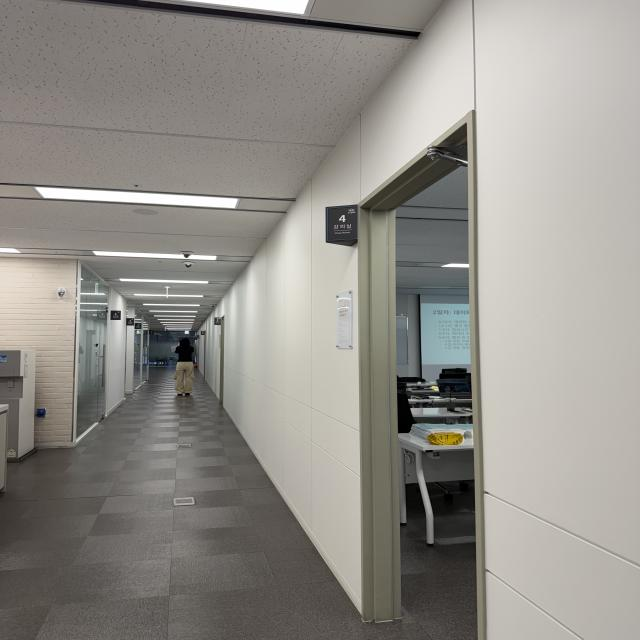room4: (326, 205, 357, 242)
